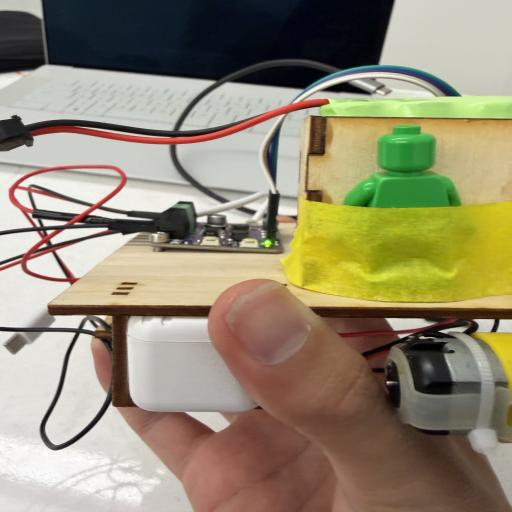Green-Lego: (343, 125, 461, 209)
